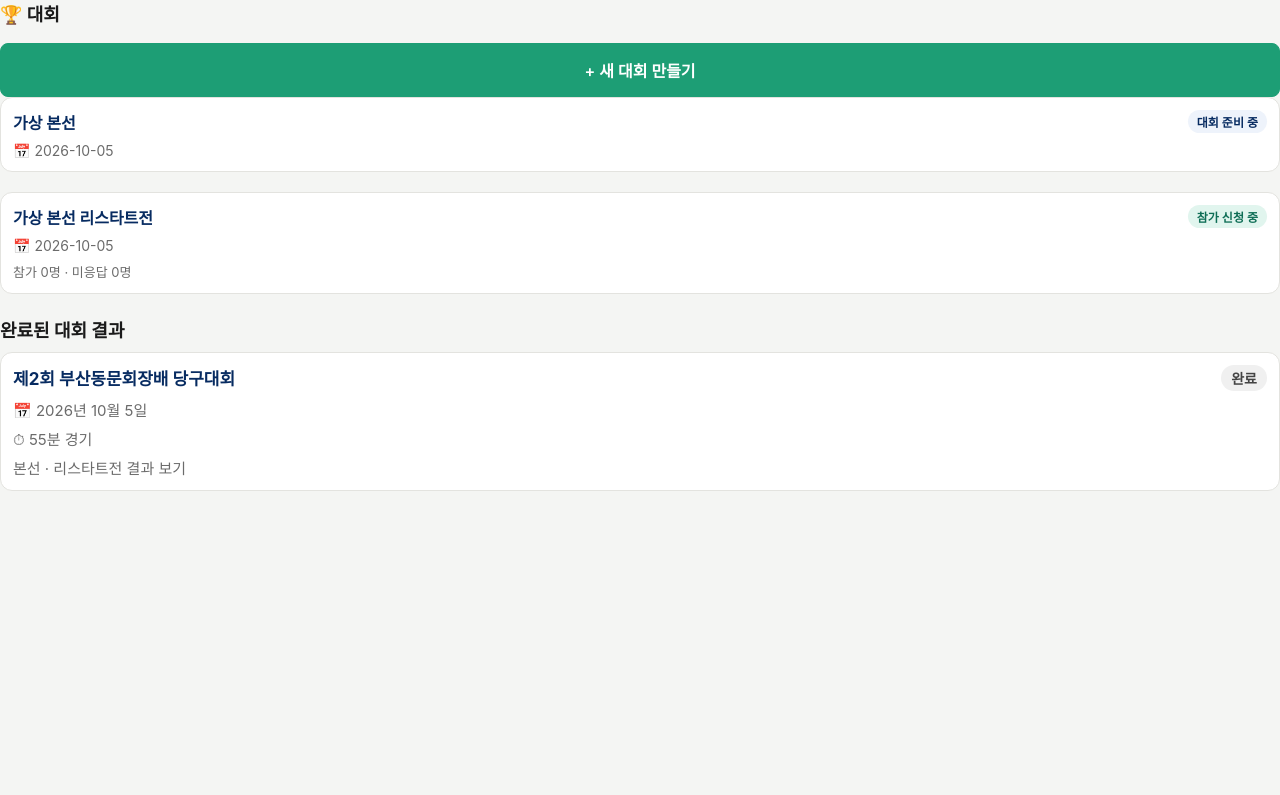
Scenario: 리스타트 대진 자동 생성 (본선 화면, 관리자) › 합류 구조가 성립하지 않는 인원(12명)은 이유를 안내하고 만들지 않는다
The image size is (1280, 795).
Click the text "가상 본선" at (44, 122), box [13, 110, 76, 134]
(page scrolled)
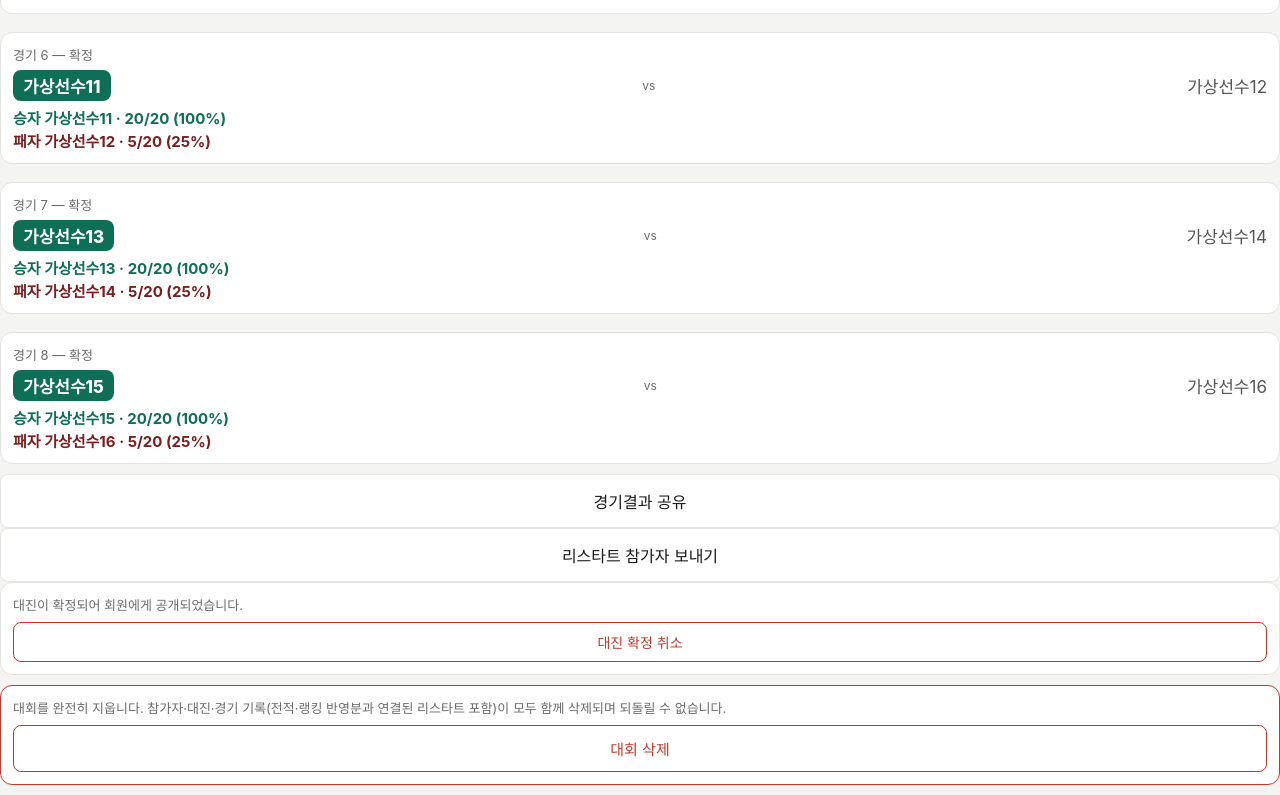
Click the button "리스타트 참가자 보내기" at (640, 555), box [0, 528, 1279, 582]
(page scrolled)
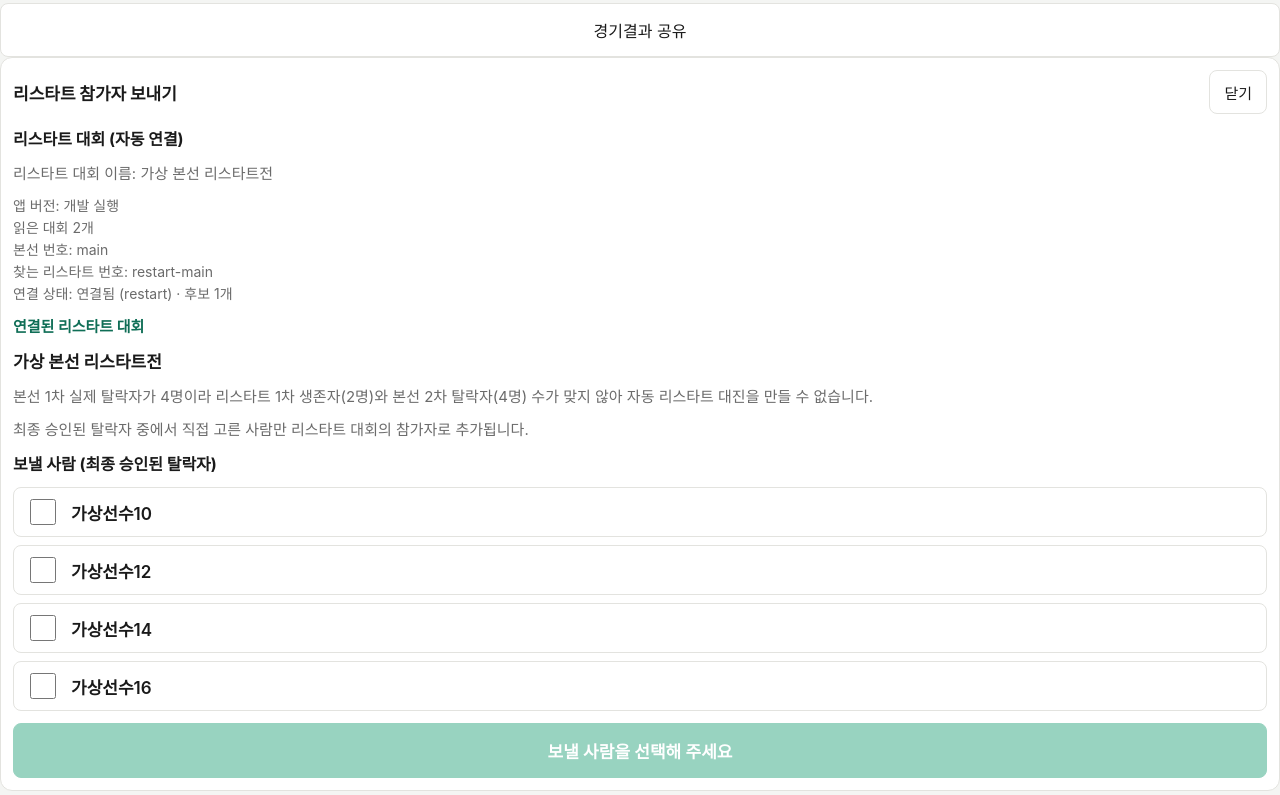
Expected: the text "리스타트 1차 생존자(2명)와 본선 2차 탈락자(4명) 수가 맞지 않아" is shown, [13, 387, 873, 406]
